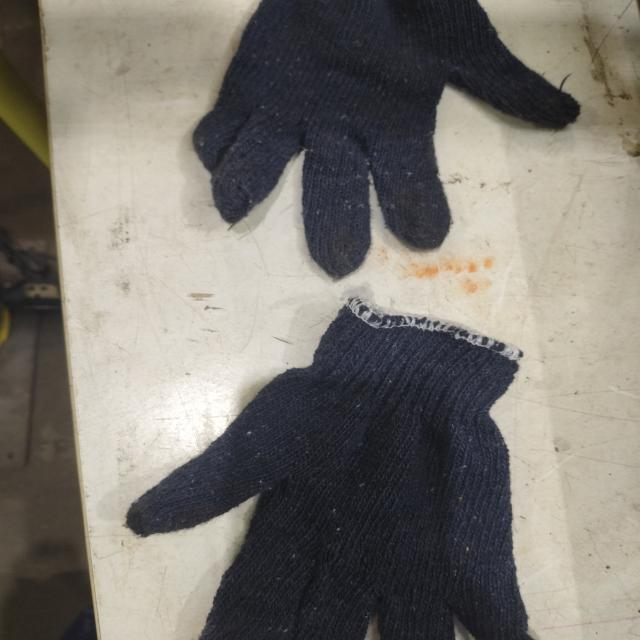Gloves-Detection: (128, 315, 558, 639), (144, 6, 580, 275)
